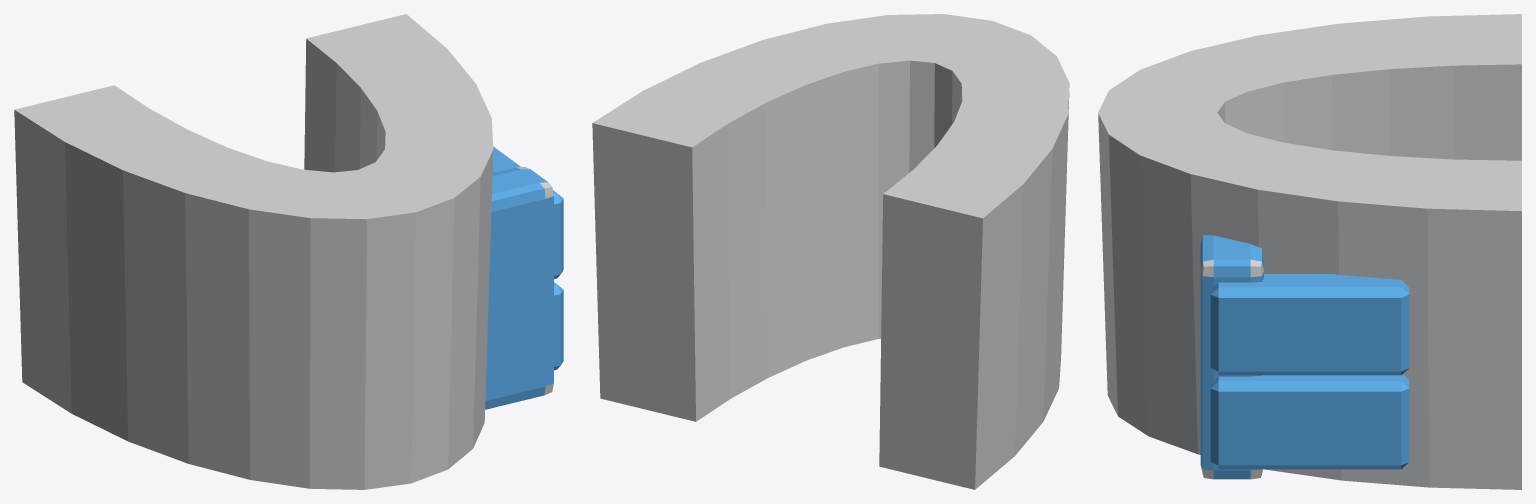
The model's file is left_shoulder__heavy_guard.glb.
3 renders of one model, left to right at view 1: azimuth 30°, elevation 25°; view 2: azimuth 150°, elevation 25°; view 3: azimuth 270°, elevation 25°, orthographic. The views are drawn at different scales.
Visible parts, largest first — view 1: armor_armor_left_shoulder__heavy_guard_v001_v001; view 2: armor_armor_left_shoulder__heavy_guard_v001_v001; view 3: armor_armor_left_shoulder__heavy_guard_v001_v001.
Boxes of the visible parts, x1,y1,x2,y2 form: armor_armor_left_shoulder__heavy_guard_v001_v001: (14, 14, 563, 489); armor_armor_left_shoulder__heavy_guard_v001_v001: (592, 14, 1069, 489); armor_armor_left_shoulder__heavy_guard_v001_v001: (1098, 14, 1521, 489).
Bounding box in the file's own units: 0.181 × 0.118 × 0.1602.
